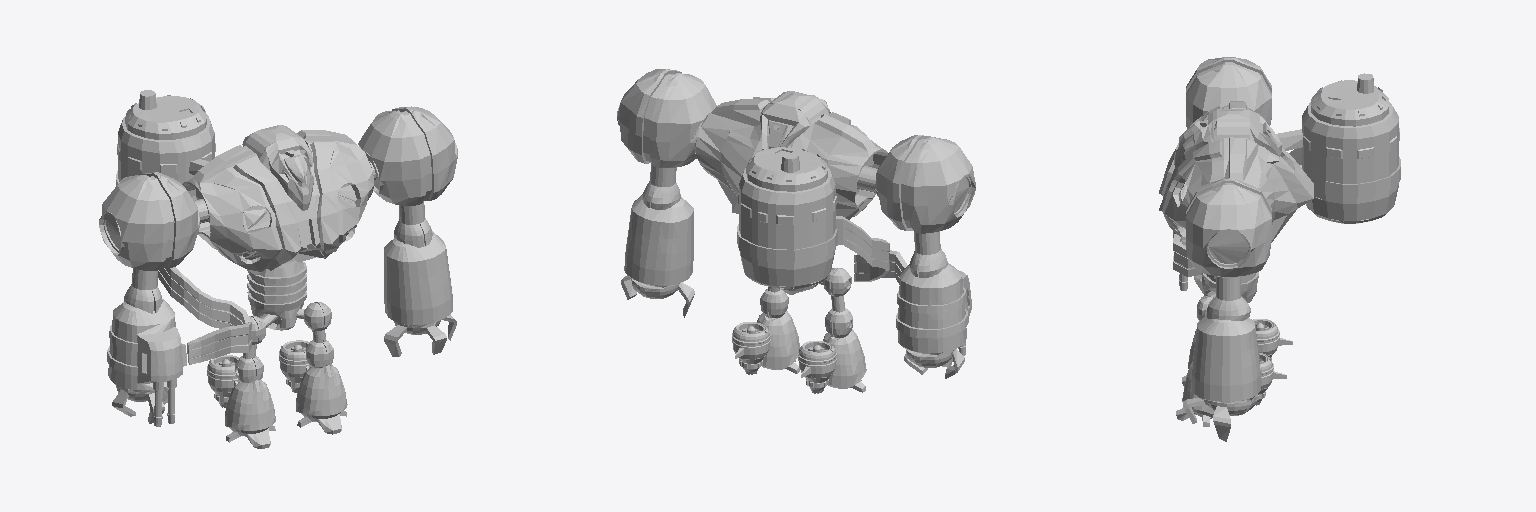
File: Robot Finish.obj
The picture shows the model from 3 angles: view 1: azimuth 30°, elevation 25°; view 2: azimuth 150°, elevation 25°; view 3: azimuth 270°, elevation 25°; orthographic projection.
Visible parts, largest first — view 1: HeadChest New_Torso, HeadChest AmmoHopper, RightArm RightShoulder, LeftShoulder Left_Arm, RightCannonFist RightArm, Left_Arm LeftForeArm, Head1 HeadChest, HeadChest Abdomen, LeftFoot LeftLeg, RightLeg RightFoot, Left_Arm LeftArm, Left_Arm LeftHand (+6 smaller); view 2: HeadChest AmmoHopper, HeadChest New_Torso, RightArm RightShoulder, LeftShoulder Left_Arm, RightCannonFist RightArm, Left_Arm LeftForeArm, Head1 HeadChest, LeftFoot LeftLeg, RightLeg RightFoot, LeftLeg LeftFootRocket, RightLeg RightFootRocket, RightArm RightArm (+5 smaller); view 3: HeadChest AmmoHopper, HeadChest New_Torso, LeftShoulder Left_Arm, Left_Arm LeftForeArm, RightArm RightShoulder, Head1 HeadChest, Left_Arm LeftArm, Left_Arm LeftHand, RightLeg RightFootRocket, LeftFoot LeftLeg, HeadChest Abdomen, LeftLeg LeftFootRocket.
Part boxes in pixels (x1,y1,x2,y2): HeadChest New_Torso: (182, 130, 376, 275); HeadChest AmmoHopper: (116, 90, 251, 364); RightArm RightShoulder: (99, 172, 199, 270); LeftShoulder Left_Arm: (358, 106, 457, 205); RightCannonFist RightArm: (107, 299, 186, 426); Left_Arm LeftForeArm: (384, 231, 452, 326); Head1 HeadChest: (242, 125, 313, 210); HeadChest Abdomen: (247, 258, 306, 330); LeftFoot LeftLeg: (296, 364, 347, 434); RightLeg RightFoot: (225, 380, 275, 448); Left_Arm LeftArm: (394, 201, 432, 247); Left_Arm LeftHand: (384, 314, 456, 356); HeadChest AmmoHopper: (737, 147, 907, 288); HeadChest New_Torso: (695, 97, 887, 219); RightArm RightShoulder: (875, 135, 975, 233); LeftShoulder Left_Arm: (617, 69, 716, 167); RightCannonFist RightArm: (896, 263, 971, 378); Left_Arm LeftForeArm: (624, 195, 693, 287); Head1 HeadChest: (760, 91, 830, 149); LeftFoot LeftLeg: (757, 311, 799, 373); RightLeg RightFoot: (823, 329, 866, 392); LeftLeg LeftFootRocket: (732, 322, 770, 374); RightLeg RightFootRocket: (798, 341, 836, 393); RightArm RightArm: (909, 231, 947, 277); HeadChest AmmoHopper: (1173, 73, 1400, 276); HeadChest New_Torso: (1159, 101, 1313, 242); LeftShoulder Left_Arm: (1186, 179, 1271, 277); Left_Arm LeftForeArm: (1192, 315, 1260, 402); RightArm RightShoulder: (1186, 57, 1271, 128); Head1 HeadChest: (1174, 108, 1281, 169); Left_Arm LeftArm: (1207, 276, 1250, 320); Left_Arm LeftHand: (1183, 394, 1257, 441); RightLeg RightFootRocket: (1253, 319, 1292, 359); LeftFoot LeftLeg: (1176, 360, 1213, 426); HeadChest Abdomen: (1203, 272, 1258, 302); LeftLeg LeftFootRocket: (1255, 353, 1286, 405).
Bounding box in the file's own units: 5.38 × 4.41 × 3.29.